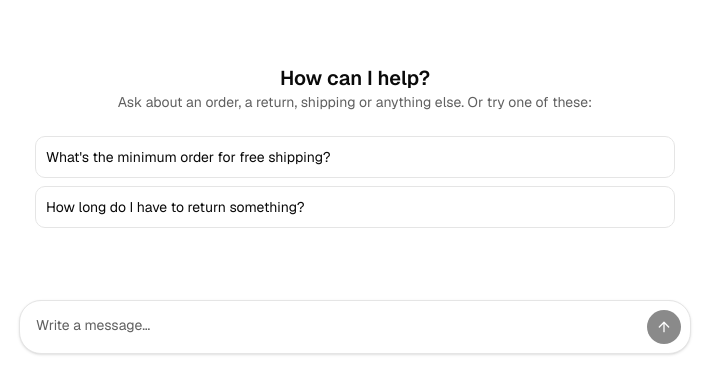
Scenario: ChatPage › shows an error from the stream and leaves the box usable
Type "Hello" into the text box labelled "message" at (337, 327), box left=36, top=309, right=638, bottom=345
Then press Enter
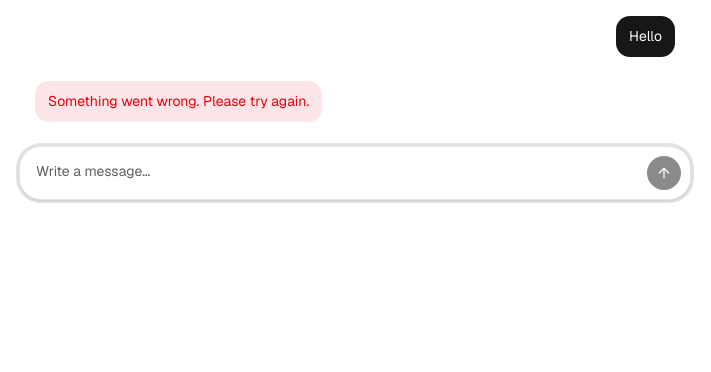
Expected: the text box labelled "message" is enabled, left=36, top=154, right=638, bottom=190
Now the message reads "Something went wrong. Please try again.", box left=48, top=92, right=309, bottom=110
Now the button "Hello" is shown, box left=616, top=16, right=675, bottom=57
